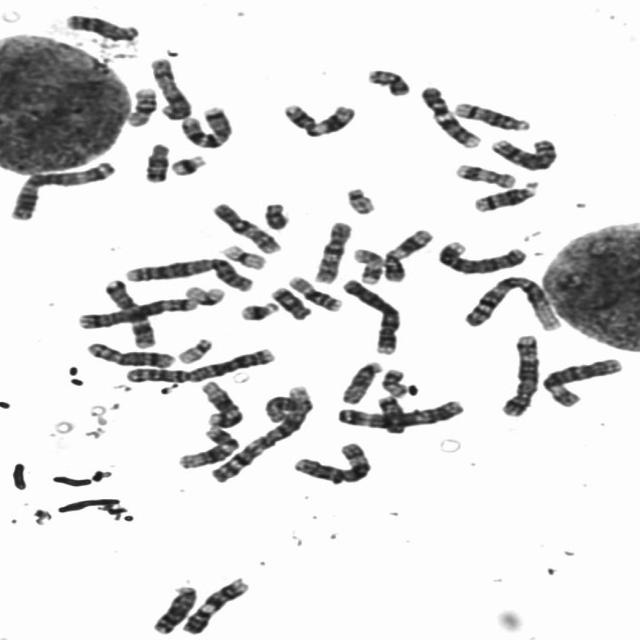A1: (202, 382, 316, 484), (458, 270, 564, 332)
A2: (120, 342, 276, 384), (118, 250, 258, 292)
A3: (3, 154, 120, 222), (330, 393, 468, 431)
B4: (336, 274, 403, 356), (431, 235, 531, 275)
B5: (72, 292, 200, 330), (494, 328, 543, 418)
C10: (206, 197, 285, 255), (307, 216, 355, 285)
C11: (377, 223, 436, 283), (277, 96, 358, 138)
C12: (172, 422, 243, 470), (194, 375, 246, 429)
C6: (536, 352, 626, 408), (286, 436, 374, 486)
C7: (97, 273, 158, 349), (174, 100, 236, 150)
C8: (484, 131, 562, 172), (81, 337, 178, 369)
C9: (175, 572, 252, 636), (415, 80, 484, 150)
D13: (146, 580, 200, 635), (59, 8, 142, 43)
D14: (448, 96, 533, 132), (467, 175, 542, 214)
D15: (335, 356, 386, 406), (259, 388, 312, 423)
E16: (282, 270, 345, 313), (120, 82, 159, 127)
E17: (449, 158, 519, 190), (348, 243, 387, 286)
E18: (265, 281, 314, 321), (137, 137, 172, 184)
F19: (215, 239, 270, 271), (178, 279, 229, 306)
F20: (360, 62, 413, 98), (376, 363, 412, 399)
G21: (232, 296, 282, 322), (164, 149, 209, 177)
G22: (171, 332, 216, 365), (339, 182, 378, 216)
X: (144, 52, 194, 121)
Y: (258, 197, 292, 231)
